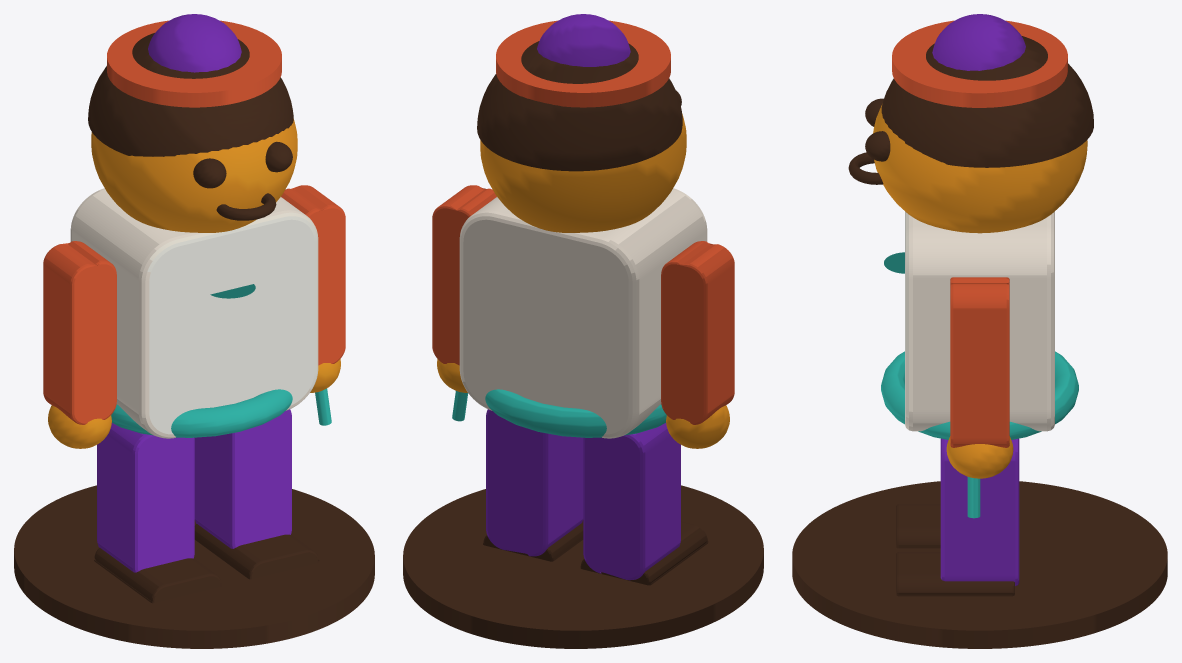
The model's file is 1139_左传_伍子胥.glb.
The picture shows the model from 3 angles, left to right: view 1: azimuth 30°, elevation 25°; view 2: azimuth 150°, elevation 25°; view 3: azimuth 270°, elevation 25°; orthographic projection.
Visible parts, largest first — view 1: card_1139; view 2: card_1139; view 3: card_1139.
Part boxes in pixels (box(x1,y1,x2,y2)): card_1139: box(14, 14, 374, 648); card_1139: box(403, 14, 763, 648); card_1139: box(792, 14, 1167, 648).
Size of the model in its own units: 0.5849 by 1 by 0.6138.
